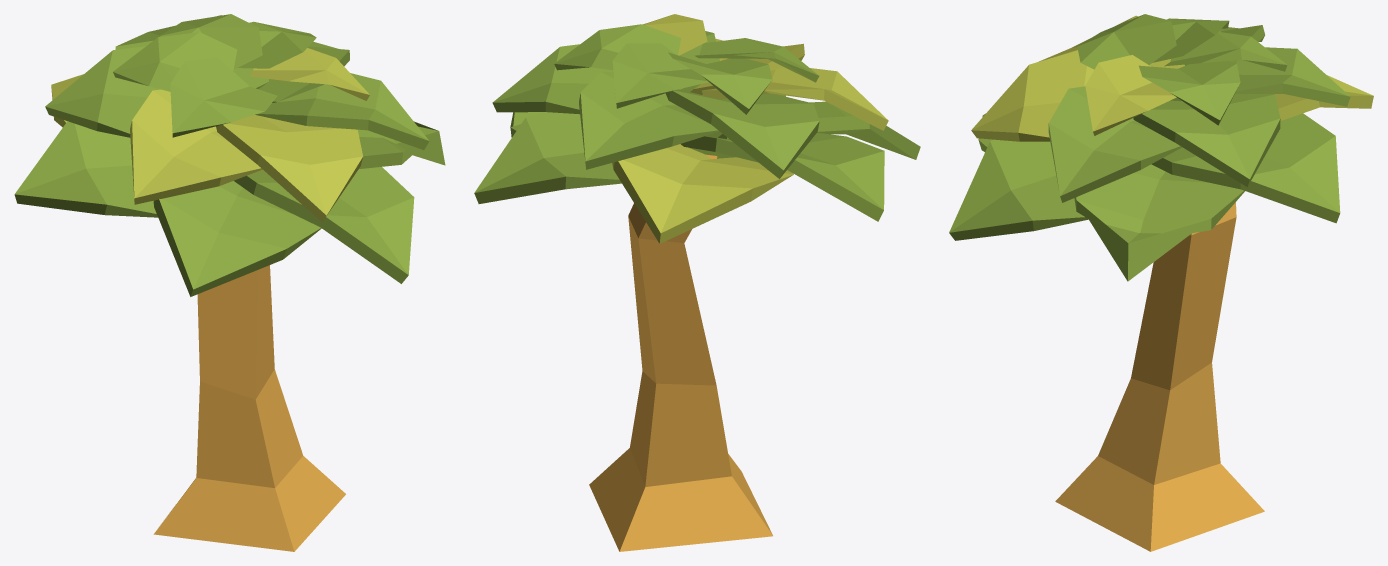
The model's file is TreeFruitL2-B.fbx.
3 renders of one model, left to right at view 1: azimuth 30°, elevation 25°; view 2: azimuth 150°, elevation 25°; view 3: azimuth 270°, elevation 25°, orthographic. The views are drawn at different scales.
Parts seen in each view (by area): view 1: Sphere.002; view 2: Sphere.002; view 3: Sphere.002.
Boxes of the visible parts, x1,y1,x2,y2 form: Sphere.002: (14, 14, 445, 551); Sphere.002: (474, 14, 920, 551); Sphere.002: (949, 14, 1373, 551).
Size of the model in its own units: 425 by 479 by 398.
